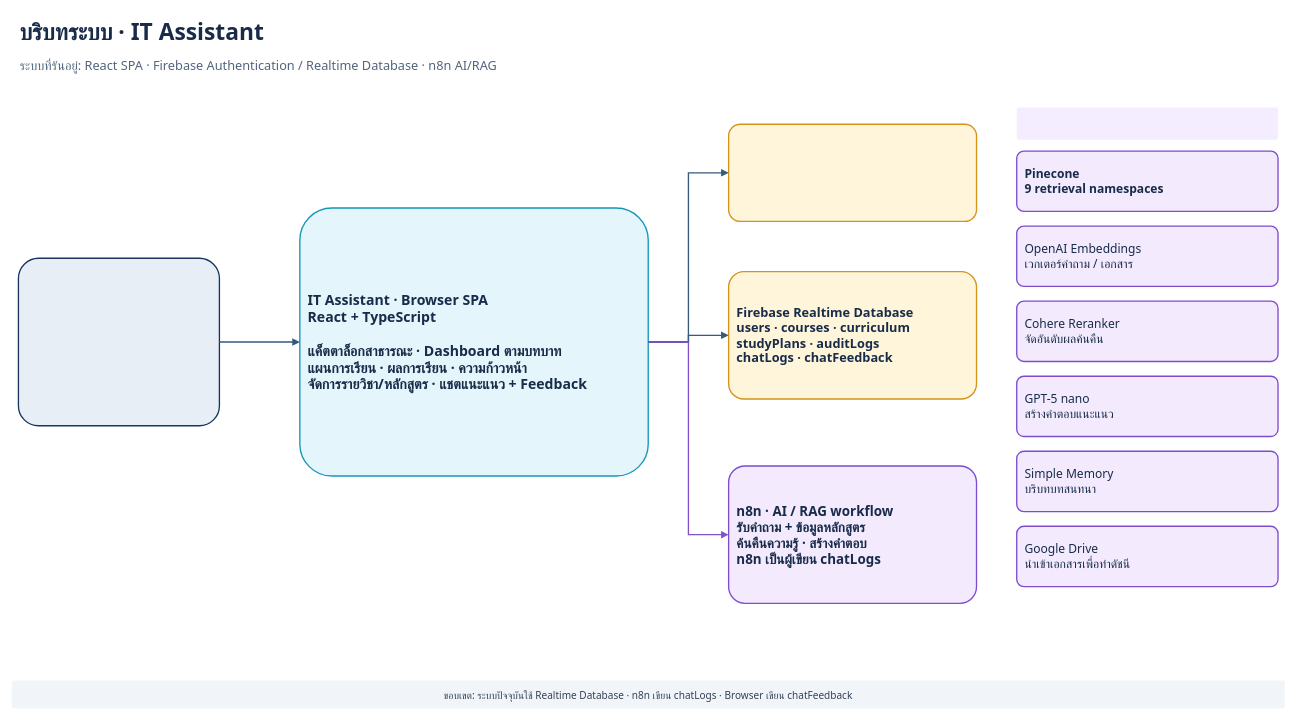
Some shapes in this 1296 by 720 pixel diagram are drawn without their labels. Here are the shapes that lost their labels. From the top down, the centre of each, then its label:
point (1147, 123): บริการที่ workflow ใช้งาน
point (852, 172): Firebase Authentication Email / Google Sign-In ยืนยันตัวตนและ session
point (118, 341): ผู้ใช้งานระบบ Guest · Student · Instructor Staff · Admin
